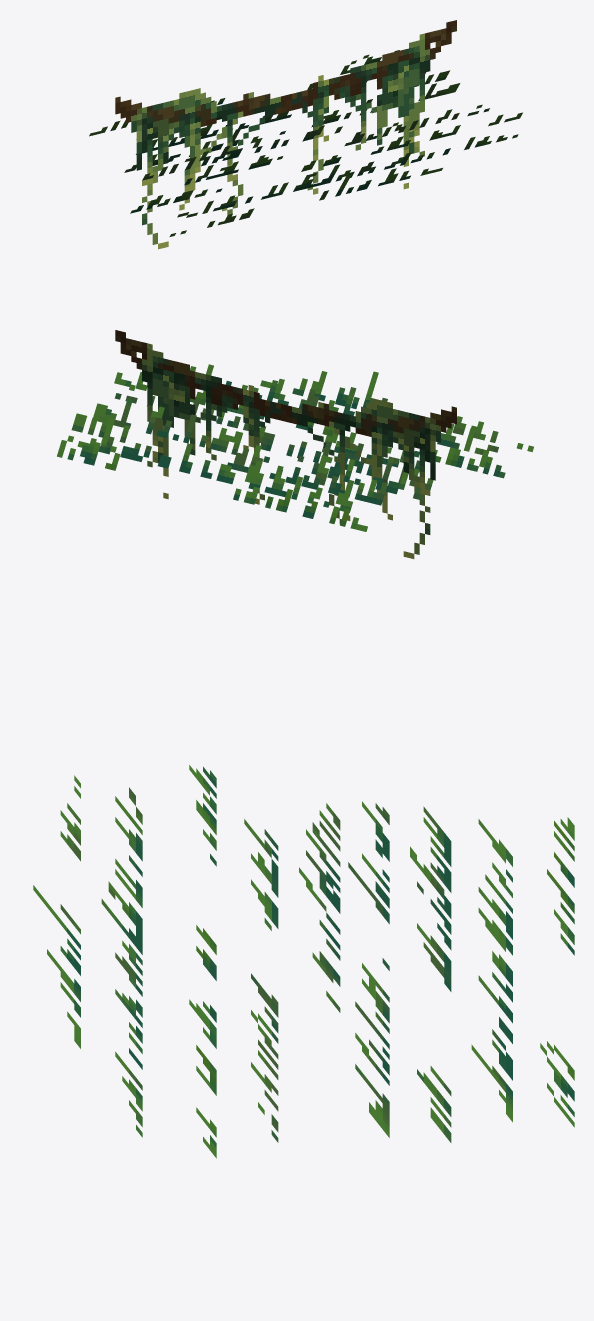
The model's file is nobleNights_ scatterAssets.gltf.
The picture shows the model from 3 angles, top to bottom: view 1: azimuth 30°, elevation 25°; view 2: azimuth 150°, elevation 25°; view 3: azimuth 270°, elevation 25°; orthographic projection. The views are drawn at different scales.
Visible parts, largest first — view 1: vine2, Grass, Vine; view 2: Grass, vine2, Vine; view 3: Grass.
Boxes of the visible parts, <box> form: vine2: <box>115,25,456,249</box>; Grass: <box>89,50,522,236</box>; Vine: <box>115,20,456,210</box>; Grass: <box>57,364,533,531</box>; vine2: <box>115,335,456,558</box>; Vine: <box>115,330,456,520</box>; Grass: <box>33,765,574,1158</box>.
Bounding box in the file's own units: 5 × 2 × 2.81.
1 material, 1 textured.
